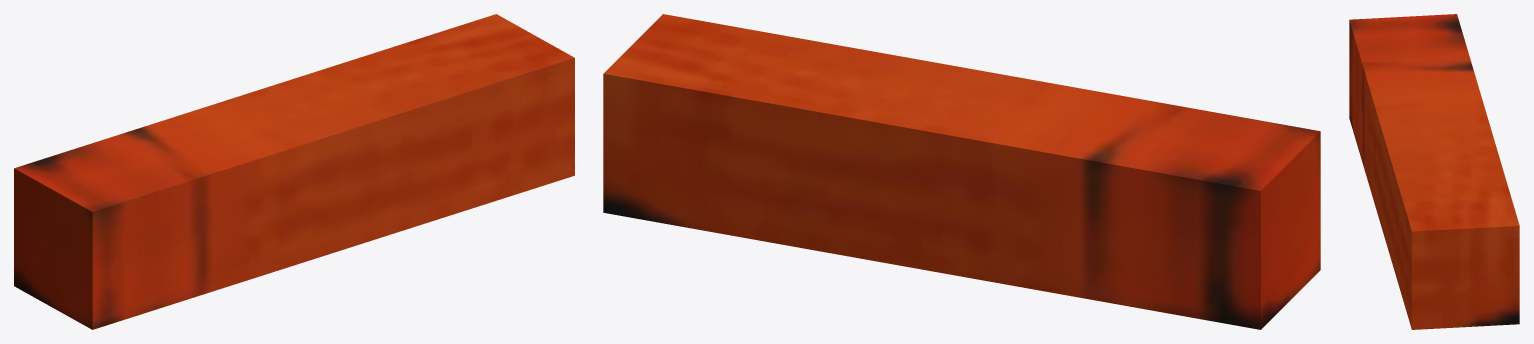
The model's file is frame__wheel_fork_strut_0.glb.
3 views of the same model, side by side, from view 1: azimuth 30°, elevation 25°; view 2: azimuth 150°, elevation 25°; view 3: azimuth 270°, elevation 25° (orthographic). The views are drawn at different scales.
Parts seen in each view (by area): view 1: geometry_0; view 2: geometry_0; view 3: geometry_0.
Part boxes in pixels (box(x1,y1,x2,y2)): geometry_0: box(14, 14, 574, 329); geometry_0: box(603, 14, 1320, 329); geometry_0: box(1349, 14, 1519, 329).
Bounding box in the file's own units: 0.1232 × 0.026 × 0.0408.
1 material, 1 textured.
